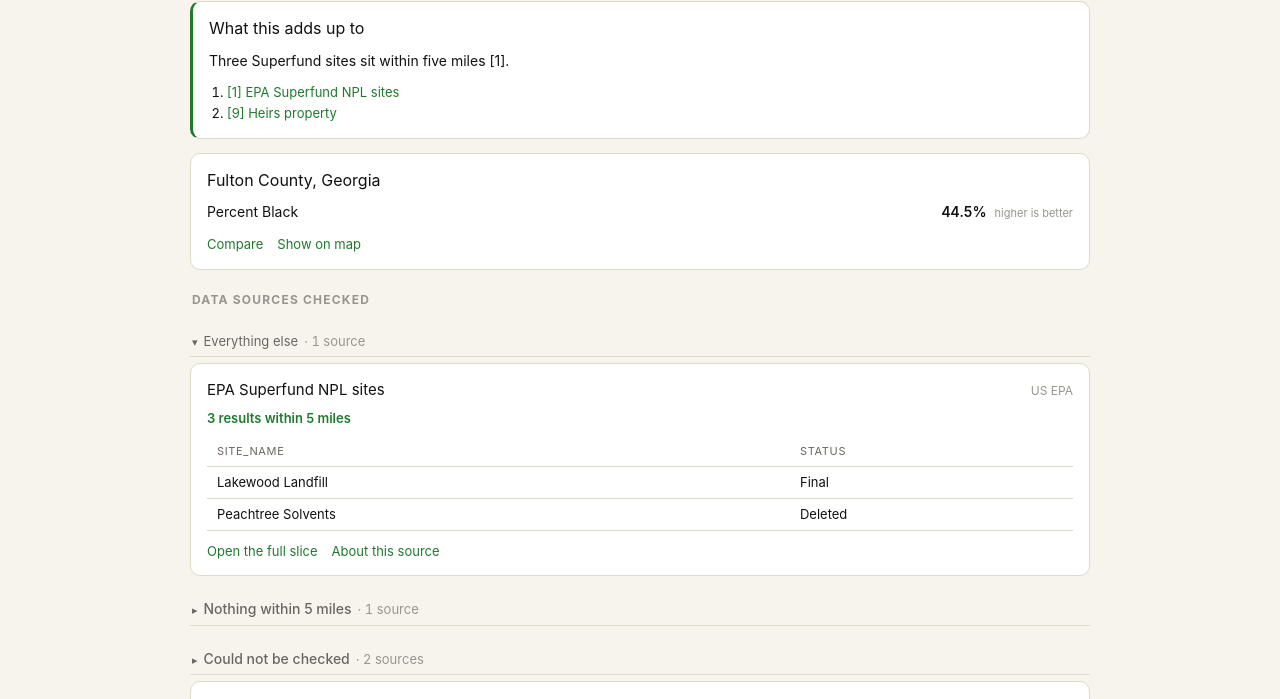
Test: the report › folds a group the reader presses, and unfolds it again
(page scrolled)
Click the button with test id "place-topic-heading" showing "▾ Everything else · 1 source". click: (251, 341)
box: [190,327,1090,357]
(page scrolled)
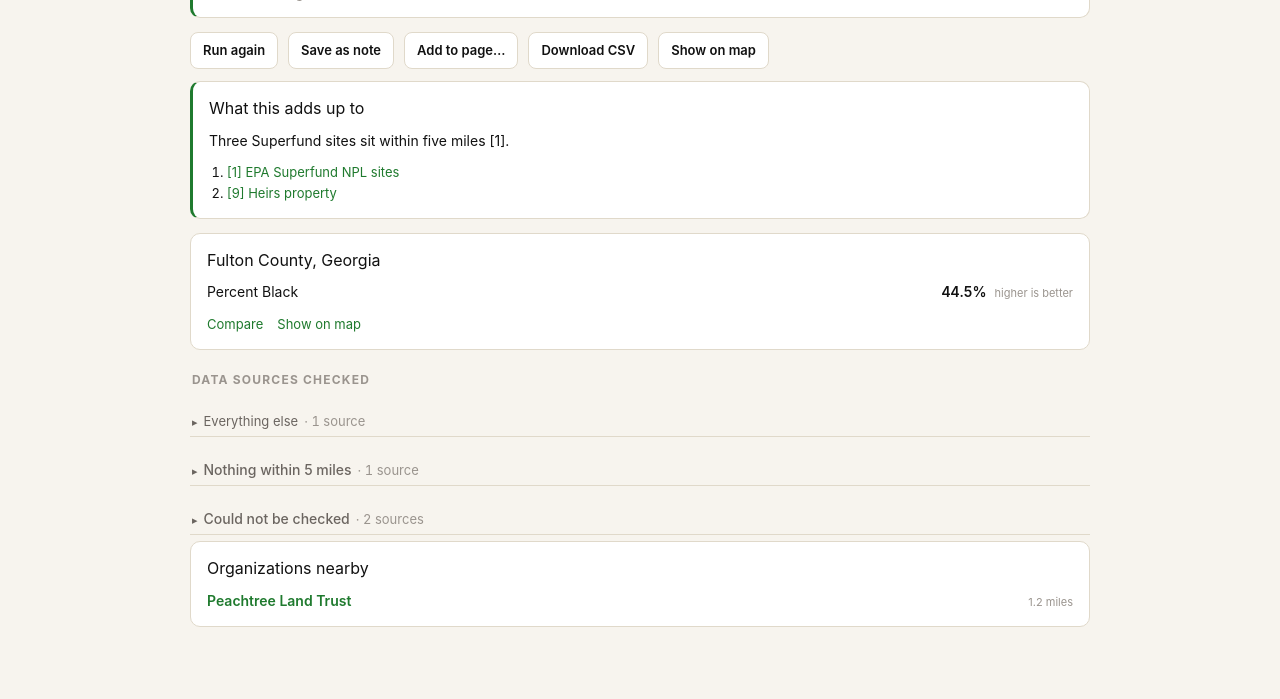
Result: no elements with test id "place-section" are shown
Result: the button with test id "place-topic-heading" is collapsed
Click the button with test id "place-topic-heading" showing "▸ Everything else · 1 source". click: (251, 421)
box: [190,407,1090,437]
(page scrolled)
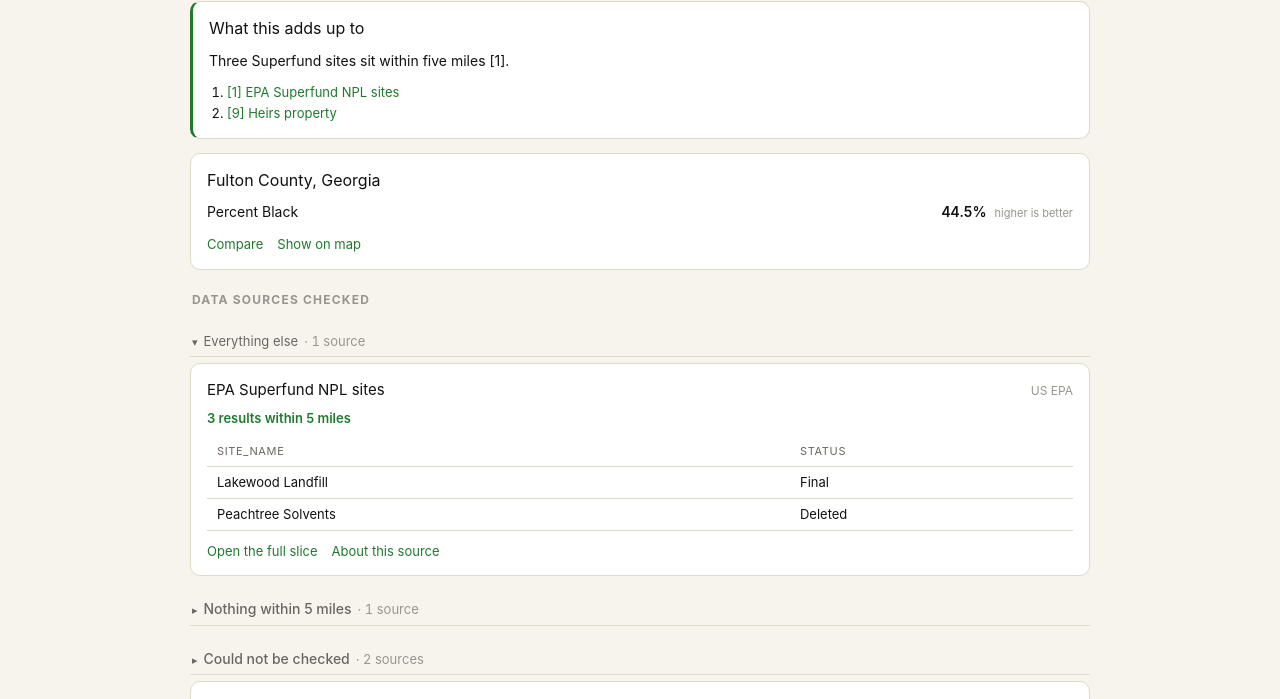
Result: the number of elements with test id "place-section" is 1 at [190,363,1090,576]
